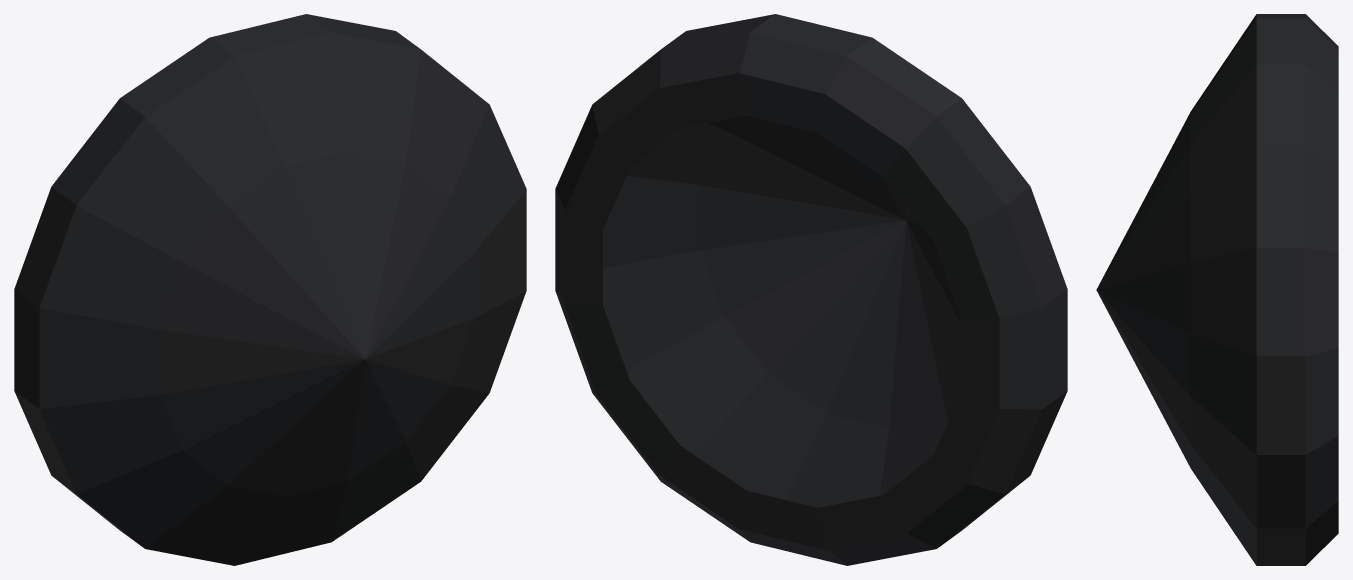
Rendered from decopole_lahollywood_cap_s.obj.
3 views of the same model, side by side, from view 1: azimuth 30°, elevation 25°; view 2: azimuth 150°, elevation 25°; view 3: azimuth 270°, elevation 25° (orthographic). The views are drawn at different scales.
Visible parts, largest first — view 1: decopole_lahollywood_cap_s; view 2: decopole_lahollywood_cap_s; view 3: decopole_lahollywood_cap_s.
Part boxes in pixels (x1=…): decopole_lahollywood_cap_s: x1=14, y1=14, x2=526, y2=565; decopole_lahollywood_cap_s: x1=555, y1=14, x2=1067, y2=565; decopole_lahollywood_cap_s: x1=1096, y1=14, x2=1338, y2=565.
Bounding box in the file's own units: 0.4168 × 0.4168 × 0.1844.
